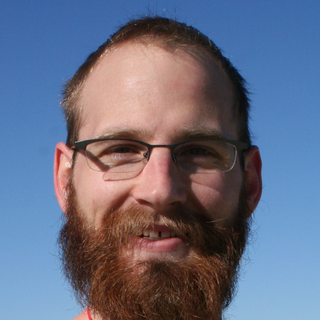eye: (169, 134, 232, 172), (93, 138, 155, 169)
